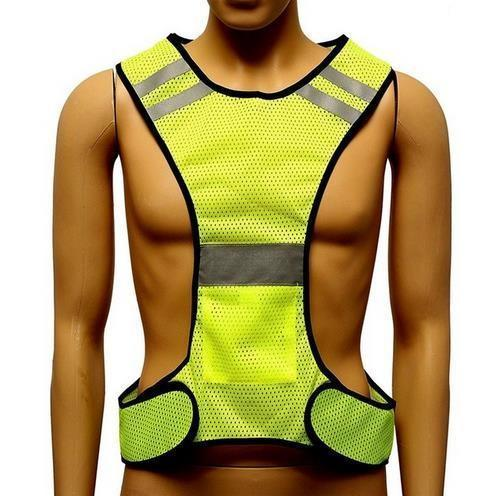vest: (113, 22, 396, 469)
